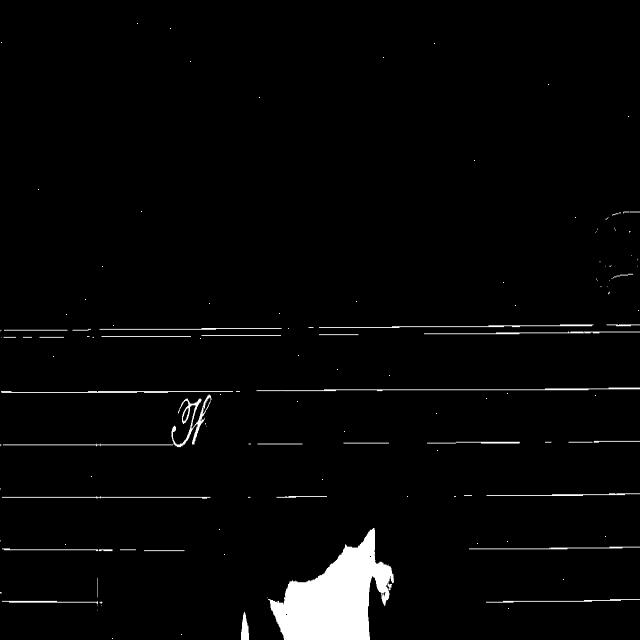hand: (270, 529, 394, 639), (241, 612, 249, 639)
noise: (307, 323, 640, 336), (0, 327, 284, 339), (249, 386, 640, 391), (0, 542, 184, 552), (0, 389, 244, 395), (468, 544, 640, 551), (0, 493, 210, 498), (486, 598, 640, 604), (0, 597, 102, 606), (484, 491, 640, 496), (425, 440, 532, 445), (0, 443, 176, 446), (566, 439, 640, 444), (276, 492, 328, 499), (256, 442, 304, 446), (341, 441, 391, 444), (460, 491, 478, 497), (540, 439, 561, 444), (96, 578, 98, 606)
not-noise: (171, 395, 211, 447)
page-marker: (596, 211, 640, 287)
